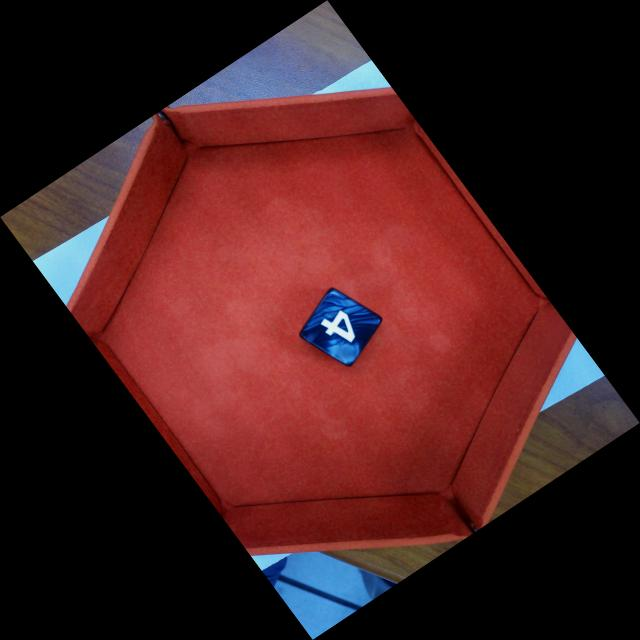dice: (296, 286, 384, 369)
